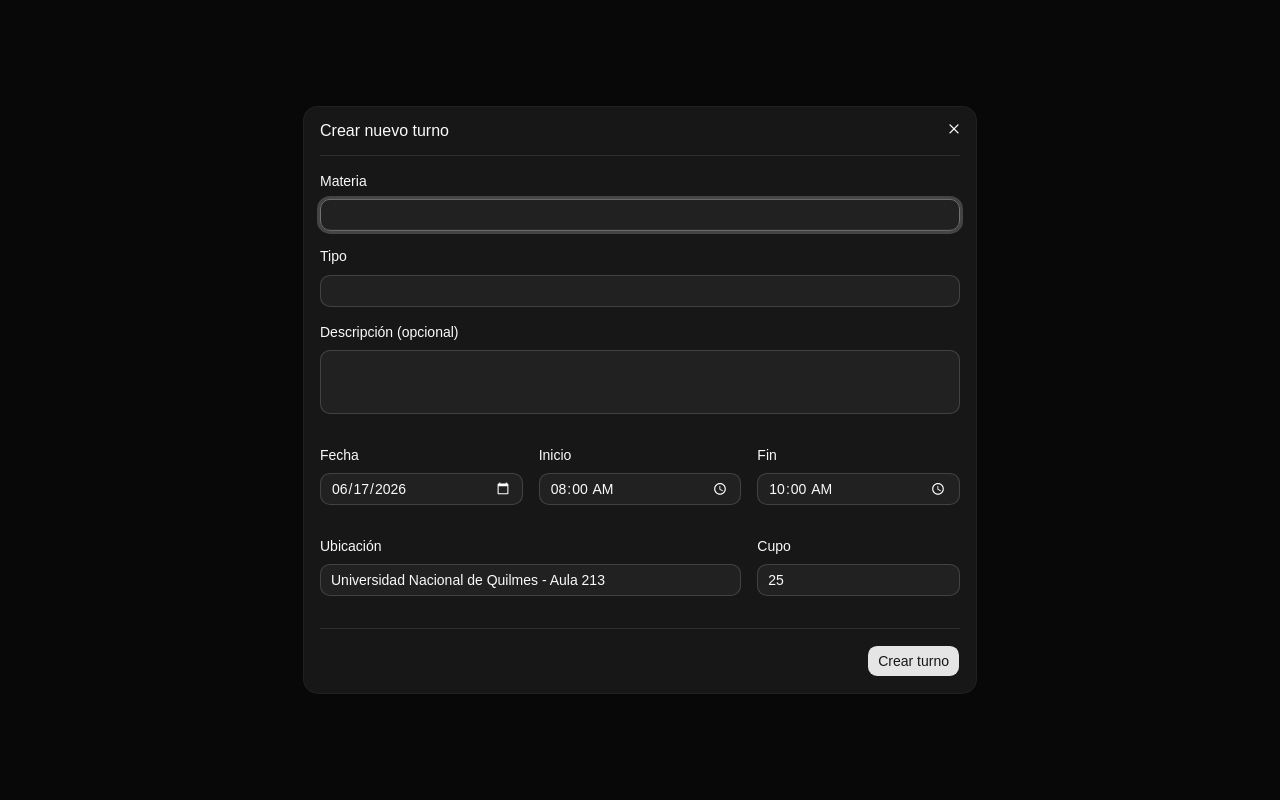
Scenario: modo creación: renderiza vacío y muestra errores de validación
Expected: the heading "Crear nuevo turno" is shown, [320,122,449,139]
Enviar formulario directamente (los campos obligatorios están vacíos)
Step 1. Click the button "Crear turno" → (914, 661), box [867,645,960,677]
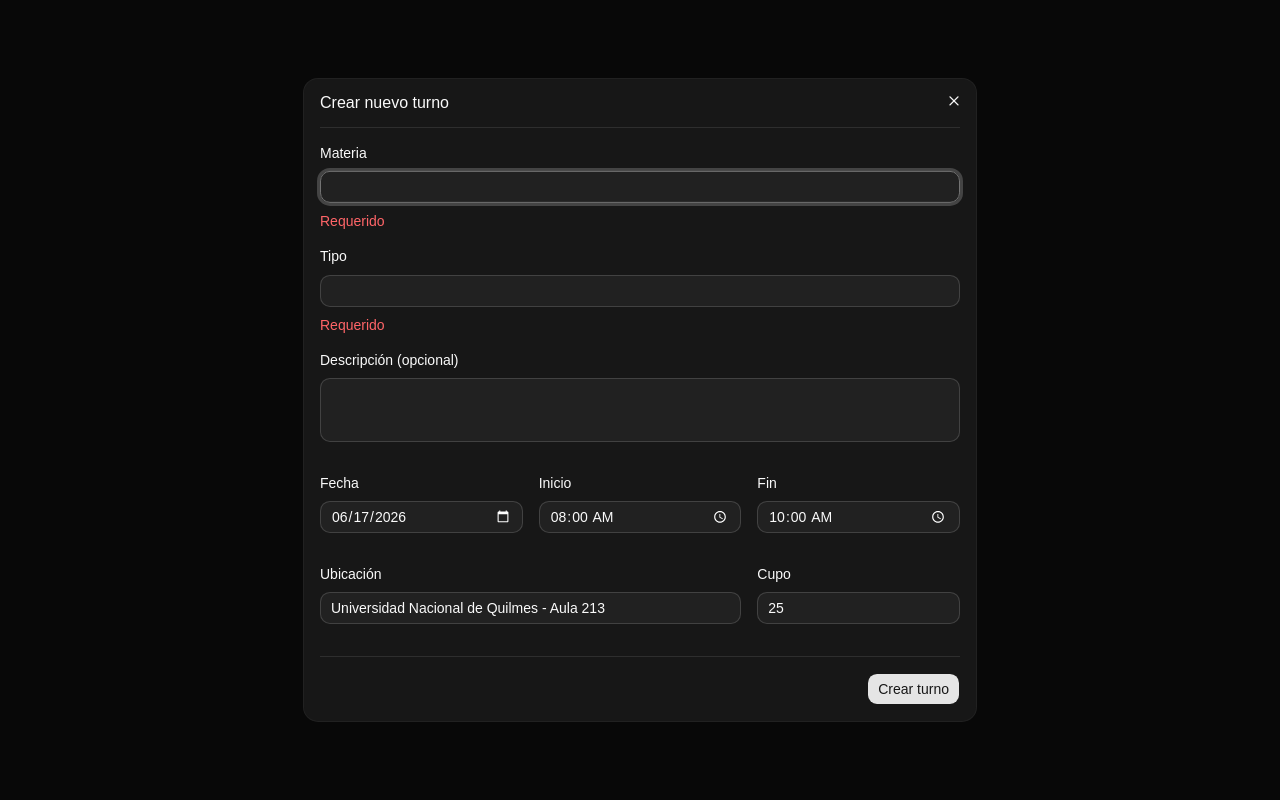
Expected: the text "Requerido" below "Materia" is shown, [320,213,385,229]
